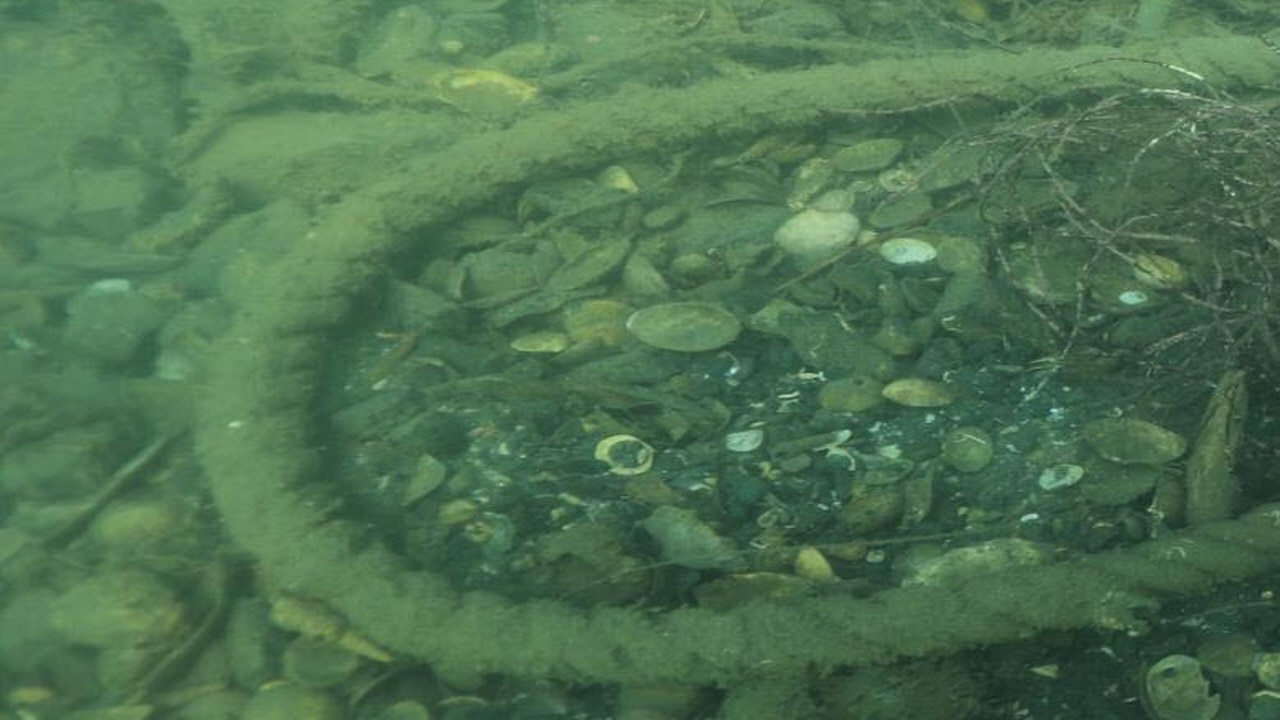rope: (190, 36, 1280, 685)
